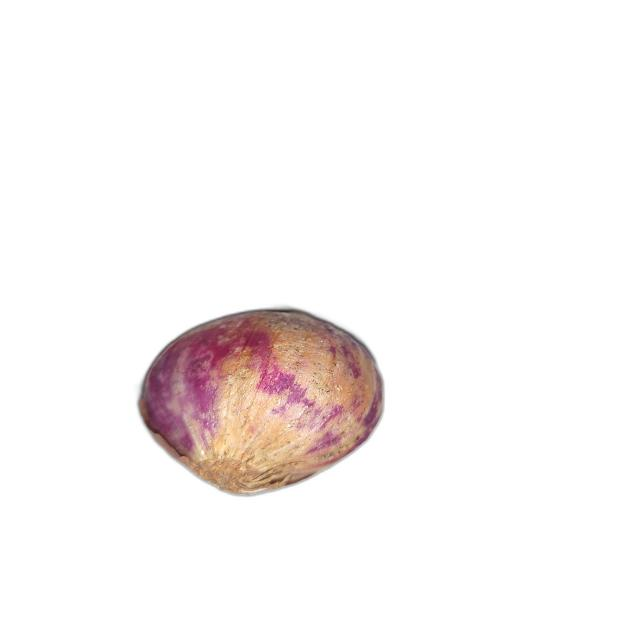onion: (138, 311, 385, 496)
